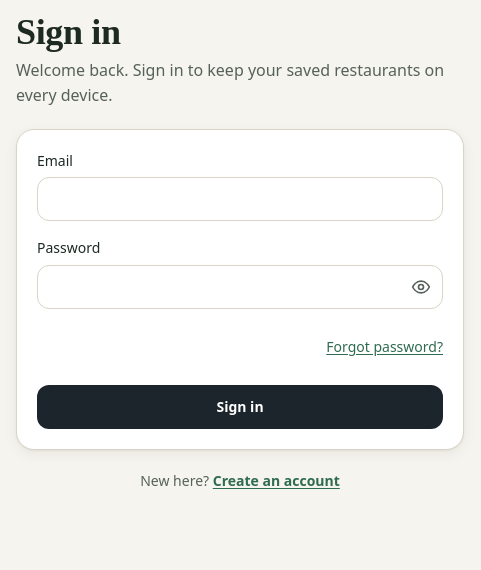
Test: LoginPage › shows the service error message when sign-in fails
The width and height of the screenshot is (481, 570).
Type "sam@example.com" into the field labelled "Email".
click(240, 199); type("sam@example.com")  # box [37, 177, 443, 221]
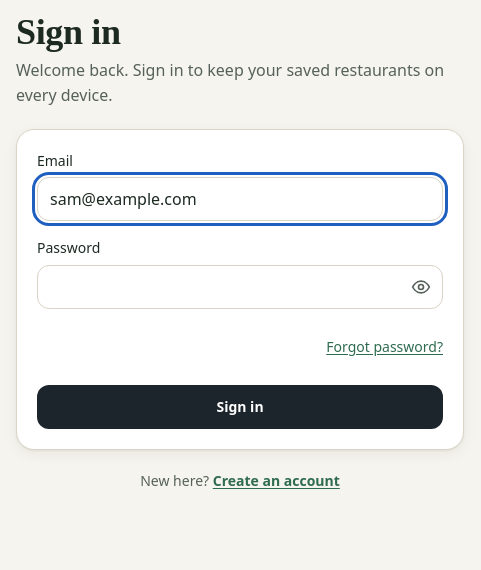
Type "wrong-password" into the password field labelled "Password".
click(240, 287); type("wrong-password")  # box [37, 265, 443, 309]
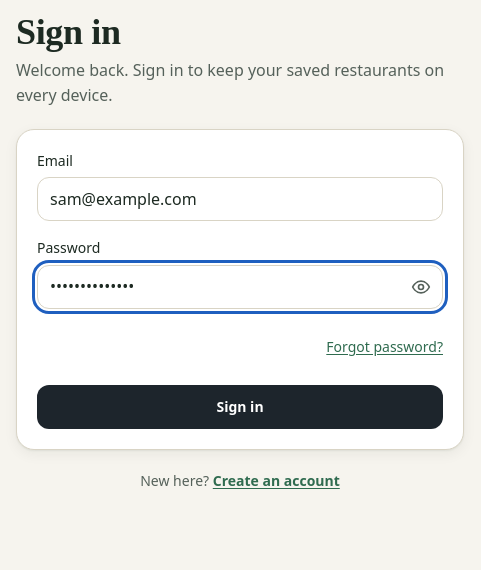
Click the button "Sign in".
click(240, 407)  # box [37, 385, 443, 429]
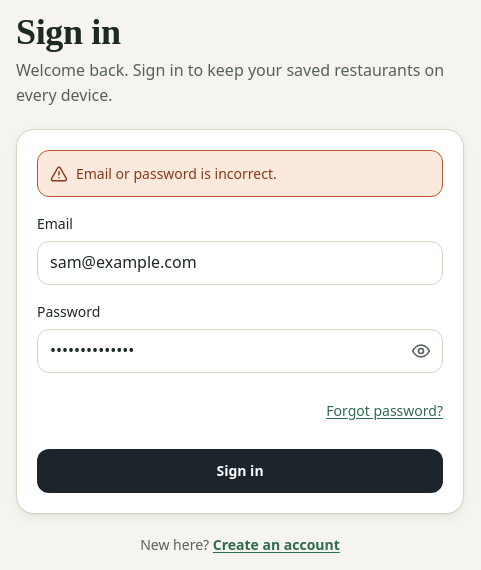
Now the message reads "Email or password is incorrect.", box [76, 164, 277, 183]
